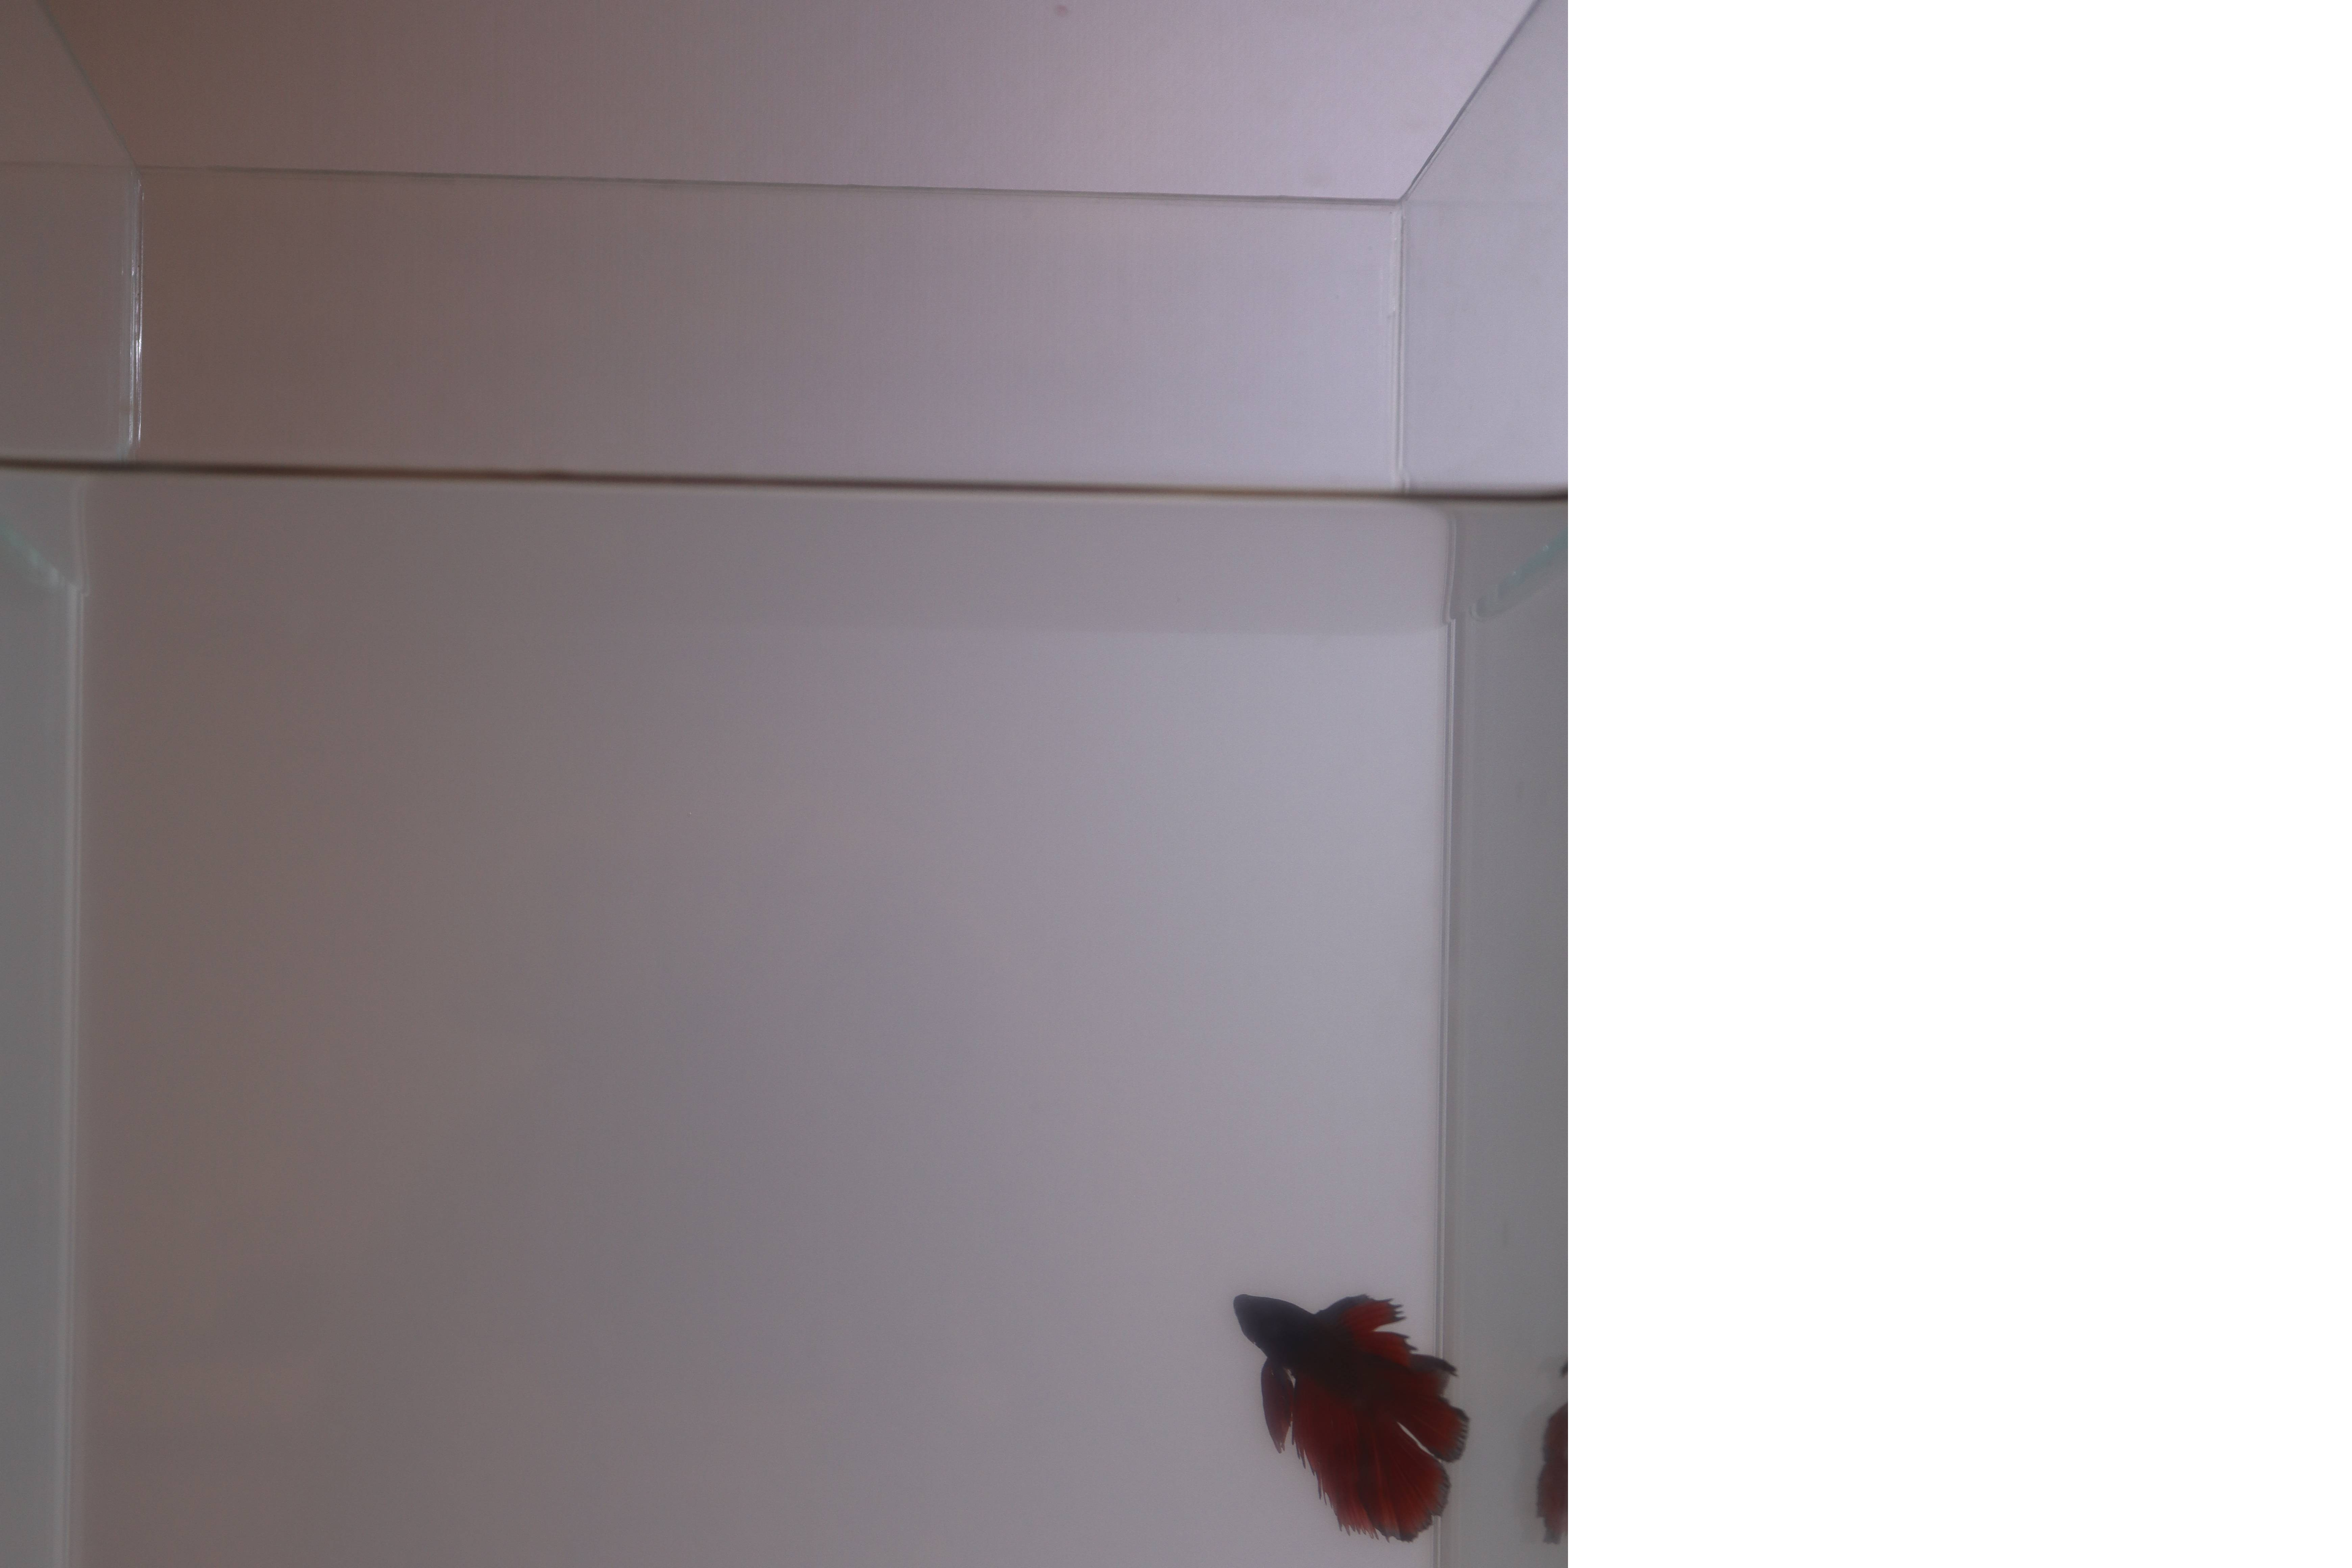fish: (1221, 1276, 1494, 1551)
